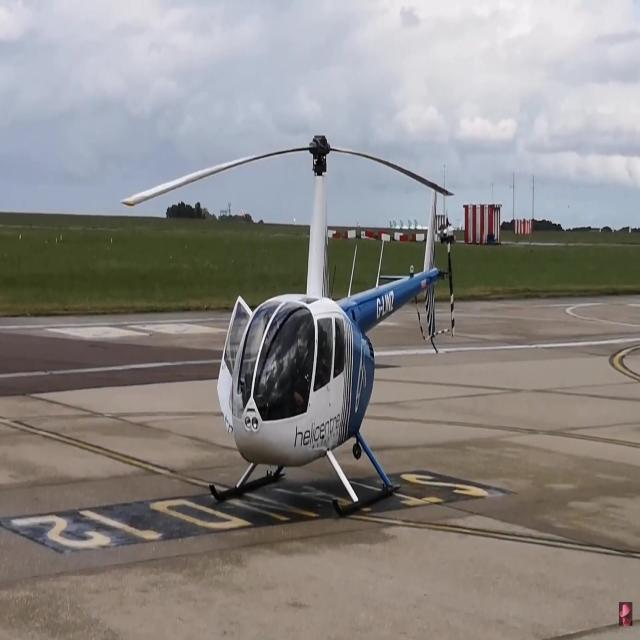CIV_HELO: (204, 132, 448, 520)
